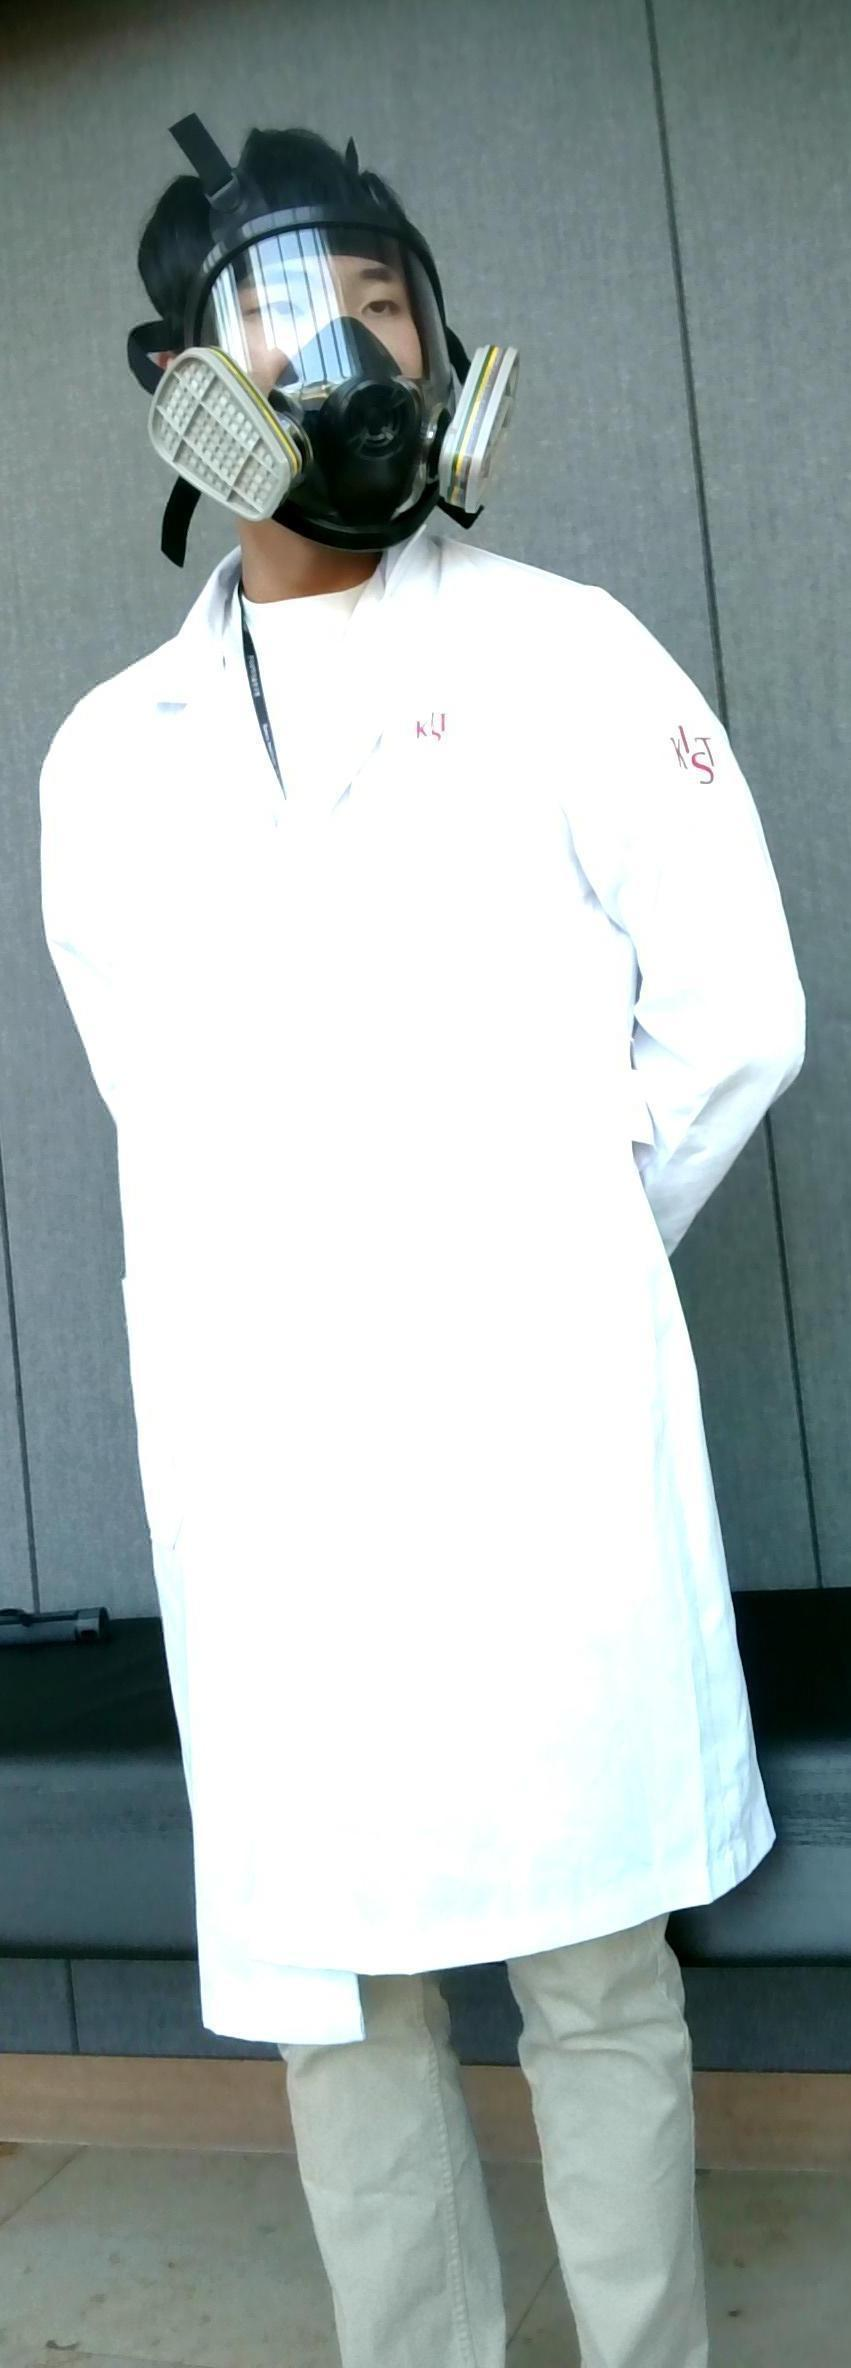lab_coat: (60, 621, 754, 1889)
